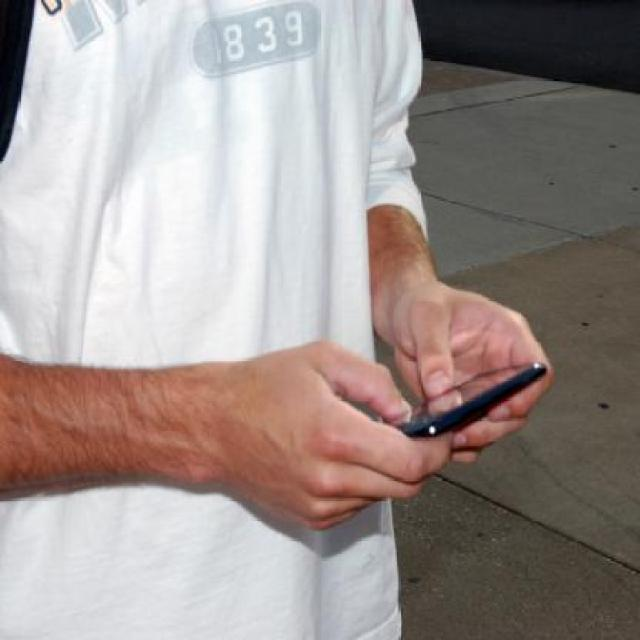phone: (383, 363, 545, 437)
